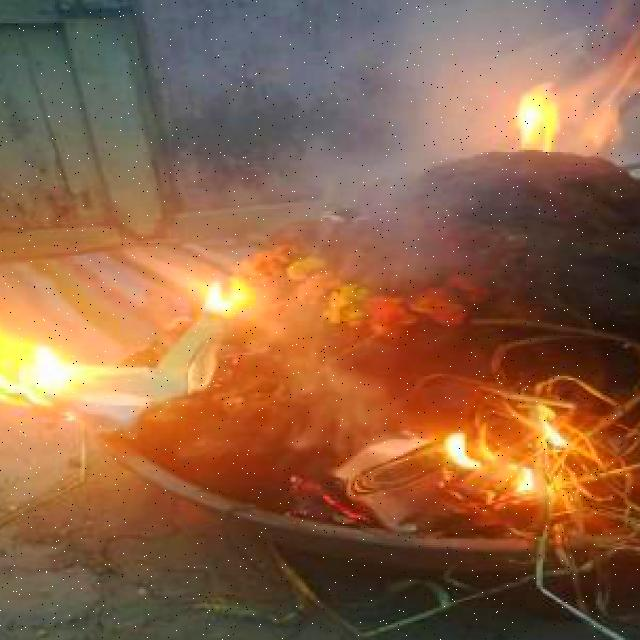fire: (520, 14, 640, 154), (0, 308, 131, 424), (448, 406, 572, 496), (184, 262, 264, 332)
smoke: (302, 0, 528, 287), (262, 296, 420, 460)
